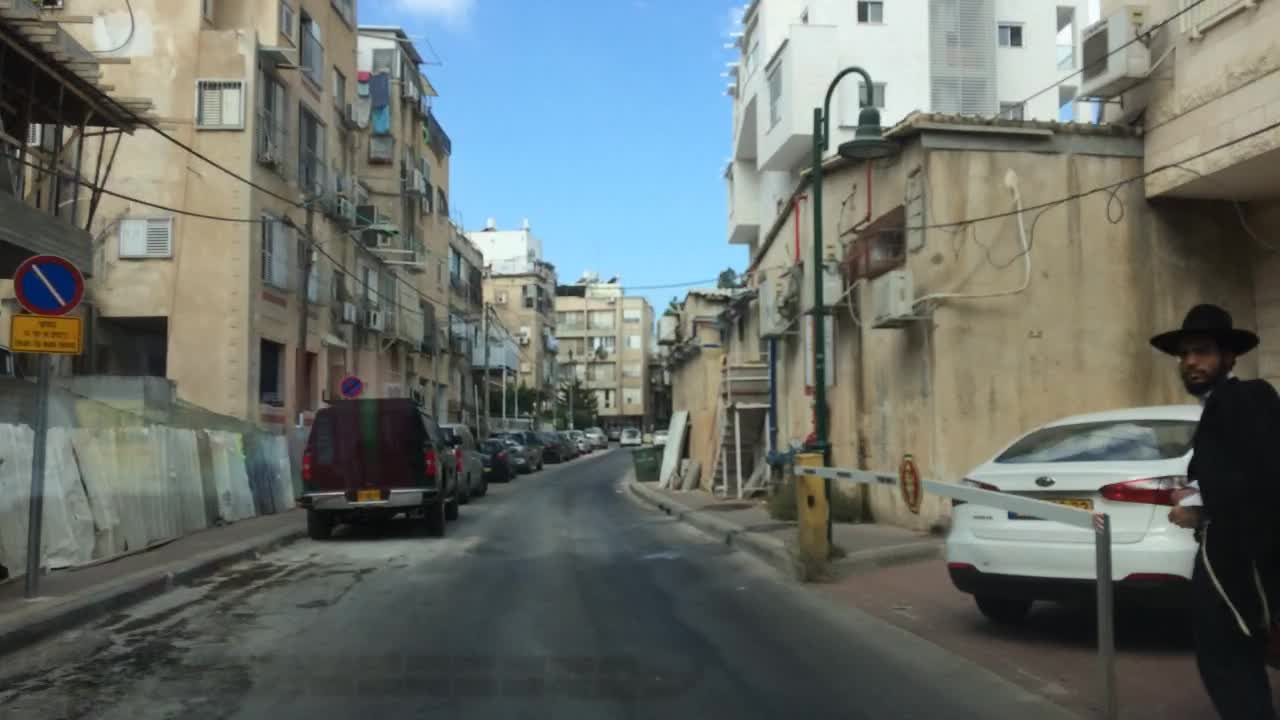car: (944, 401, 1224, 636), (295, 394, 461, 537), (434, 423, 491, 501), (502, 427, 547, 472), (478, 435, 515, 479), (532, 430, 576, 461), (553, 430, 581, 459), (565, 426, 594, 453), (583, 426, 607, 447), (621, 425, 640, 446), (654, 429, 672, 444), (606, 427, 620, 440), (640, 432, 655, 444)
person: (1147, 298, 1278, 716)
traffic sign: (12, 251, 82, 316), (11, 312, 85, 353), (337, 375, 364, 397)
